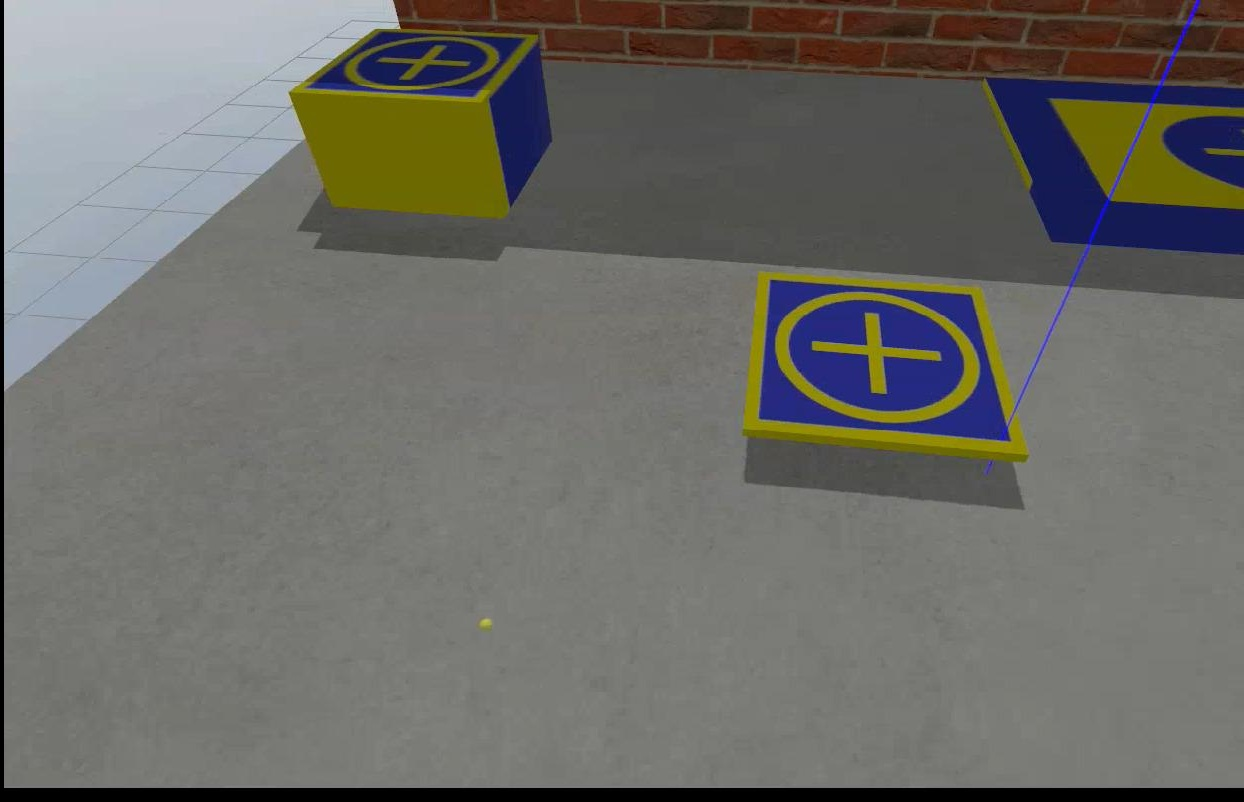large_base: (978, 77, 1242, 256)
small_base: (738, 272, 1031, 465), (285, 27, 539, 108)
